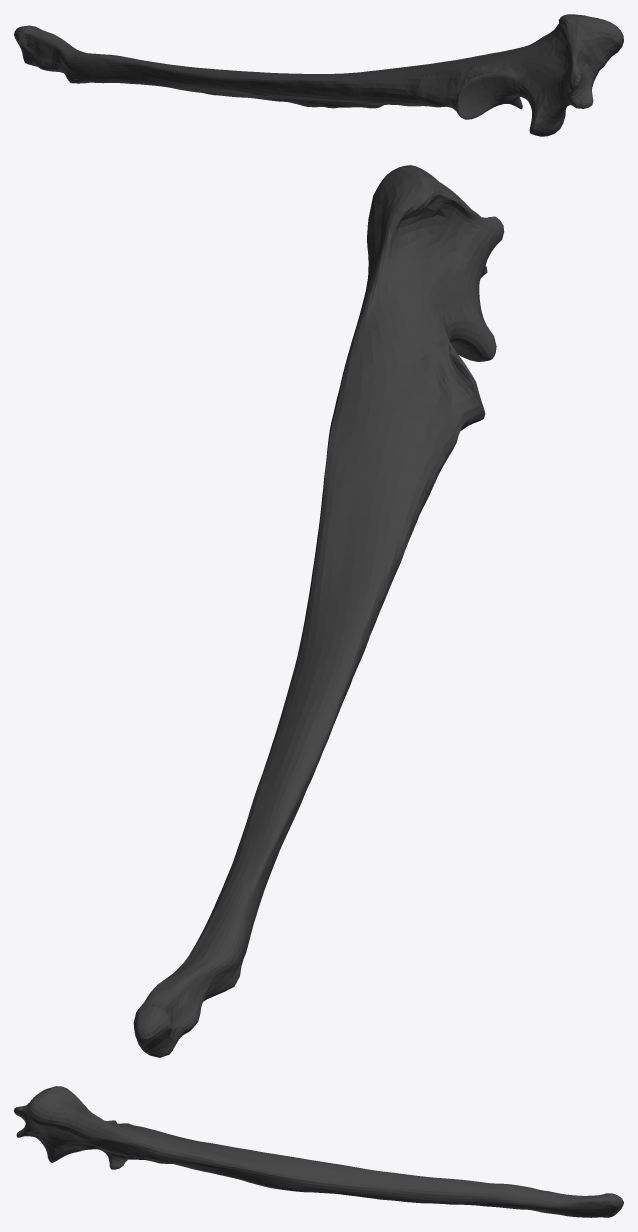
File: Ulna.glb
3 views of the same model, one above another, from view 1: azimuth 30°, elevation 25°; view 2: azimuth 150°, elevation 25°; view 3: azimuth 270°, elevation 25° (orthographic). The views are drawn at different scales.
Parts seen in each view (by area): view 1: Ulna; view 2: Ulna; view 3: Ulna.
Boxes of the visible parts, box(x1,y1,x2,y2) form: Ulna: box(14, 14, 623, 136); Ulna: box(133, 165, 504, 1057); Ulna: box(14, 1086, 623, 1217).
Size of the model in its own units: 0.8726 by 0.9374 by 2.57.
Materials: 1 (1 with a texture image).
